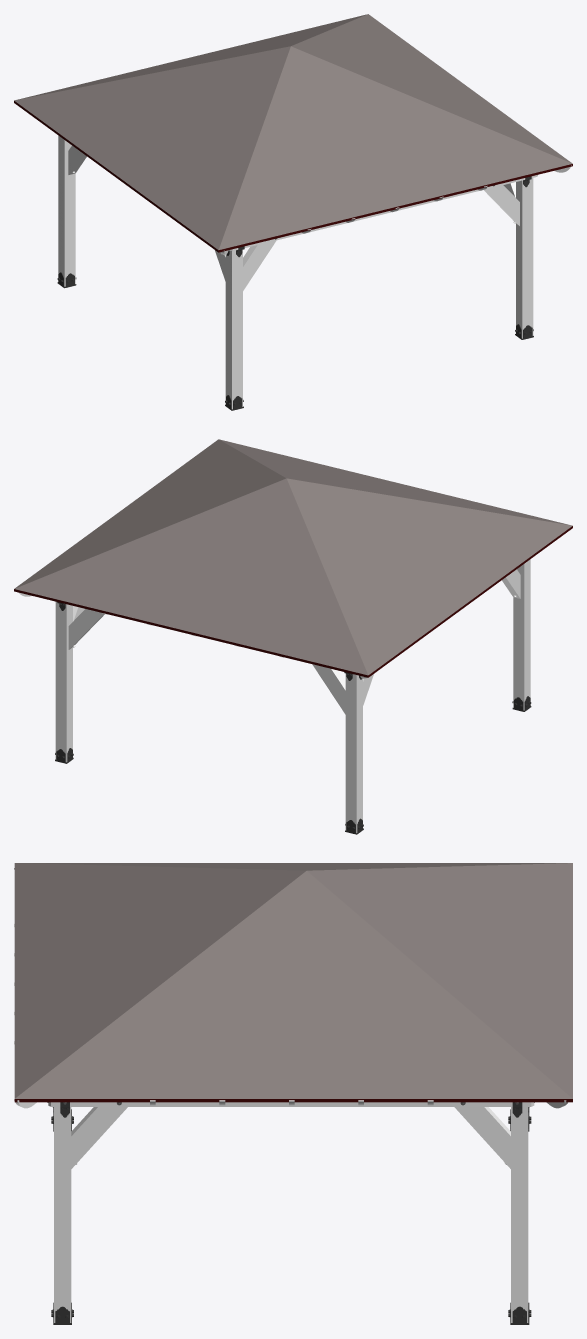
Rendered from saratoga-16x16-bullnose.obj.
3 renders of one model, top to bottom at view 1: azimuth 30°, elevation 25°; view 2: azimuth 150°, elevation 25°; view 3: azimuth 270°, elevation 25°, orthographic. The views are drawn at different scales.
Parts seen in each view (by area): view 1: Mesh226 shingles roof Group1 Model, Mesh177 Group71 Component_92_4 Group2 Group1 Model, Mesh79 Group43 Component_92_2 Group2 Group1 Model, Mesh128 Group57 Component_92_3 Group2 Group1 Model, Mesh227 roof Group1 Model, Mesh217 Component_91_7 Component_92_4 Group2 Group1 Model, Mesh119 Component_91_3 Component_92_2 Group2 Group1 Model, Mesh75 Component_135_1 Group2 Group1 Model; view 2: Mesh226 shingles roof Group1 Model, Mesh128 Group57 Component_92_3 Group2 Group1 Model, Mesh1 Group4 Component_92_1 Group3 Group2 Group1 Model, Mesh177 Group71 Component_92_4 Group2 Group1 Model, Mesh227 roof Group1 Model, Mesh168 Component_91_5 Component_92_3 Group2 Group1 Model, Mesh41 Component_91_1 Component_92_1 Group3 Group2 Group1 Model; view 3: Mesh226 shingles roof Group1 Model, Mesh79 Group43 Component_92_2 Group2 Group1 Model, Mesh1 Group4 Component_92_1 Group3 Group2 Group1 Model, Mesh227 roof Group1 Model, Mesh78 Component_134_2 Group2 Group1 Model, Mesh123 Component_91_4 Component_92_2 Group2 Group1 Model, Mesh45 Component_91_2 Component_92_1 Group3 Group2 Group1 Model.
Boxes of the visible parts, x1,y1,x2,y2 form: Mesh226 shingles roof Group1 Model: (14, 14, 572, 250); Mesh177 Group71 Component_92_4 Group2 Group1 Model: (225, 249, 242, 409); Mesh79 Group43 Component_92_2 Group2 Group1 Model: (516, 178, 533, 338); Mesh128 Group57 Component_92_3 Group2 Group1 Model: (58, 135, 75, 286); Mesh227 roof Group1 Model: (14, 101, 572, 252); Mesh217 Component_91_7 Component_92_4 Group2 Group1 Model: (243, 240, 276, 290); Mesh119 Component_91_3 Component_92_2 Group2 Group1 Model: (484, 185, 519, 225); Mesh75 Component_135_1 Group2 Group1 Model: (229, 175, 537, 251); Mesh226 shingles roof Group1 Model: (14, 439, 572, 675); Mesh128 Group57 Component_92_3 Group2 Group1 Model: (345, 673, 362, 833); Mesh1 Group4 Component_92_1 Group3 Group2 Group1 Model: (55, 602, 72, 762); Mesh177 Group71 Component_92_4 Group2 Group1 Model: (513, 559, 530, 710); Mesh227 roof Group1 Model: (14, 526, 572, 677); Mesh168 Component_91_5 Component_92_3 Group2 Group1 Model: (312, 664, 345, 714); Mesh41 Component_91_1 Component_92_1 Group3 Group2 Group1 Model: (68, 609, 104, 649); Mesh226 shingles roof Group1 Model: (14, 863, 572, 1098); Mesh79 Group43 Component_92_2 Group2 Group1 Model: (54, 1107, 71, 1322); Mesh1 Group4 Component_92_1 Group3 Group2 Group1 Model: (511, 1107, 528, 1322); Mesh227 roof Group1 Model: (14, 1099, 572, 1102); Mesh78 Component_134_2 Group2 Group1 Model: (59, 1102, 522, 1106); Mesh123 Component_91_4 Component_92_2 Group2 Group1 Model: (71, 1107, 127, 1168); Mesh45 Component_91_2 Component_92_1 Group3 Group2 Group1 Model: (454, 1107, 510, 1168).
Bounding box in the file's own units: 193 × 135 × 193.
